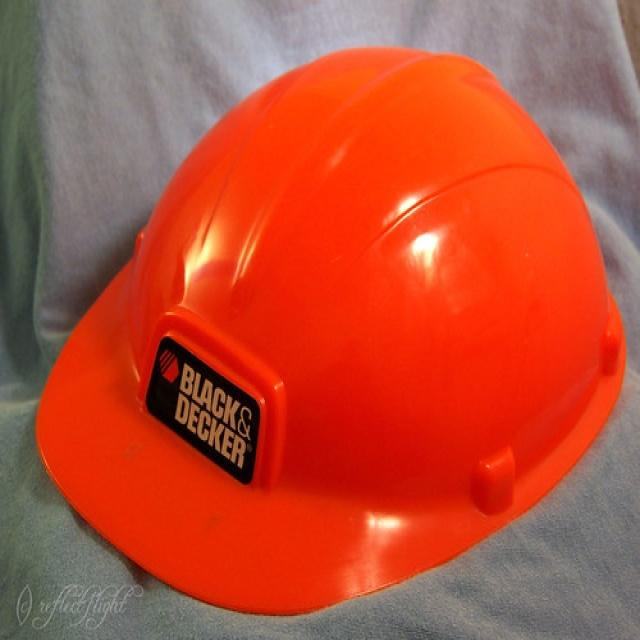helmet: (21, 51, 630, 640)
